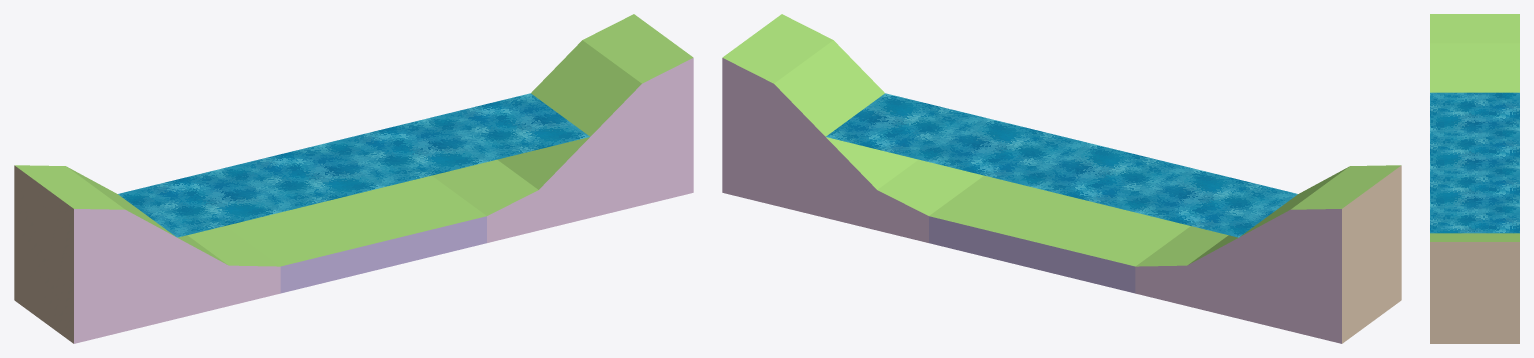
Rendered from River_Straight_Wide.glb.
3 renders of one model, left to right at view 1: azimuth 30°, elevation 25°; view 2: azimuth 150°, elevation 25°; view 3: azimuth 270°, elevation 25°, orthographic. The views are drawn at different scales.
Visible parts, largest first — view 1: Grass_Hill_Sharp_Straight_1x2 (×2), Terrain_Water_River_Flat_1x1 (×4), Grass_Flat_1x1; view 2: Grass_Hill_Sharp_Straight_1x2 (×2), Terrain_Water_River_Flat_1x1 (×4), Grass_Flat_1x1; view 3: Grass_Hill_Sharp_Straight_1x2 (×2), Terrain_Water_River_Flat_1x1 (×4).
Boxes of the visible parts, x1,y1,x2,y2 form: Grass_Hill_Sharp_Straight_1x2 (×2): (14, 14, 693, 343); Terrain_Water_River_Flat_1x1 (×4): (118, 93, 589, 237); Grass_Flat_1x1: (225, 175, 486, 293); Grass_Hill_Sharp_Straight_1x2 (×2): (722, 14, 1401, 343); Terrain_Water_River_Flat_1x1 (×4): (826, 93, 1297, 237); Grass_Flat_1x1: (929, 175, 1190, 293); Grass_Hill_Sharp_Straight_1x2 (×2): (1430, 14, 1519, 343); Terrain_Water_River_Flat_1x1 (×4): (1430, 92, 1519, 233).
Size of the model in its own units: 600 by 125 by 100.
Materials: 6 (1 with a texture image).
